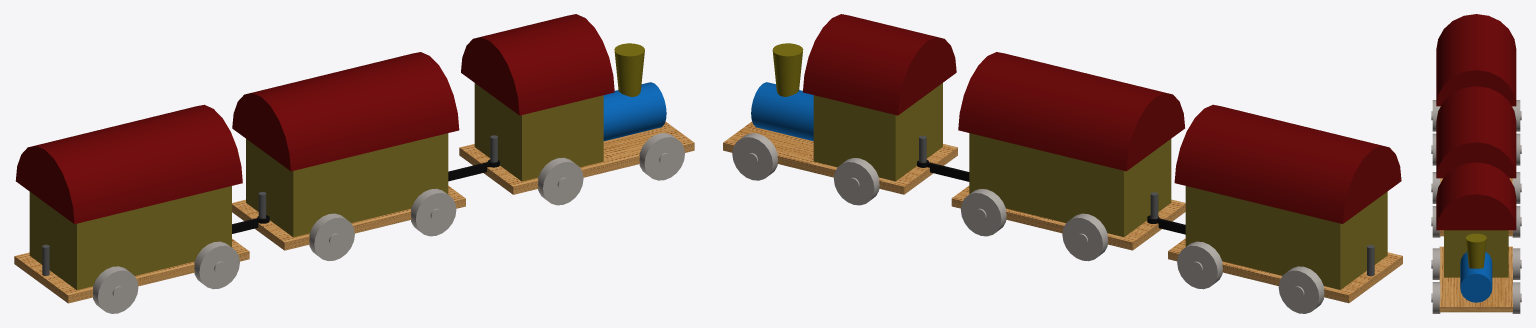
The model's file is Trenesito_chido.fbx.
The picture shows the model from 3 angles, left to right: view 1: azimuth 30°, elevation 25°; view 2: azimuth 150°, elevation 25°; view 3: azimuth 270°, elevation 25°; orthographic projection. The views are drawn at different scales.
Parts seen in each view (by area): view 1: union; view 2: union; view 3: union.
Part boxes in pixels (left/top/right/bottom): union: left=14, top=14, right=694, bottom=313; union: left=723, top=14, right=1402, bottom=313; union: left=1431, top=14, right=1521, bottom=313.
Size of the model in its own units: 77.2 by 17.7 by 14.08.
